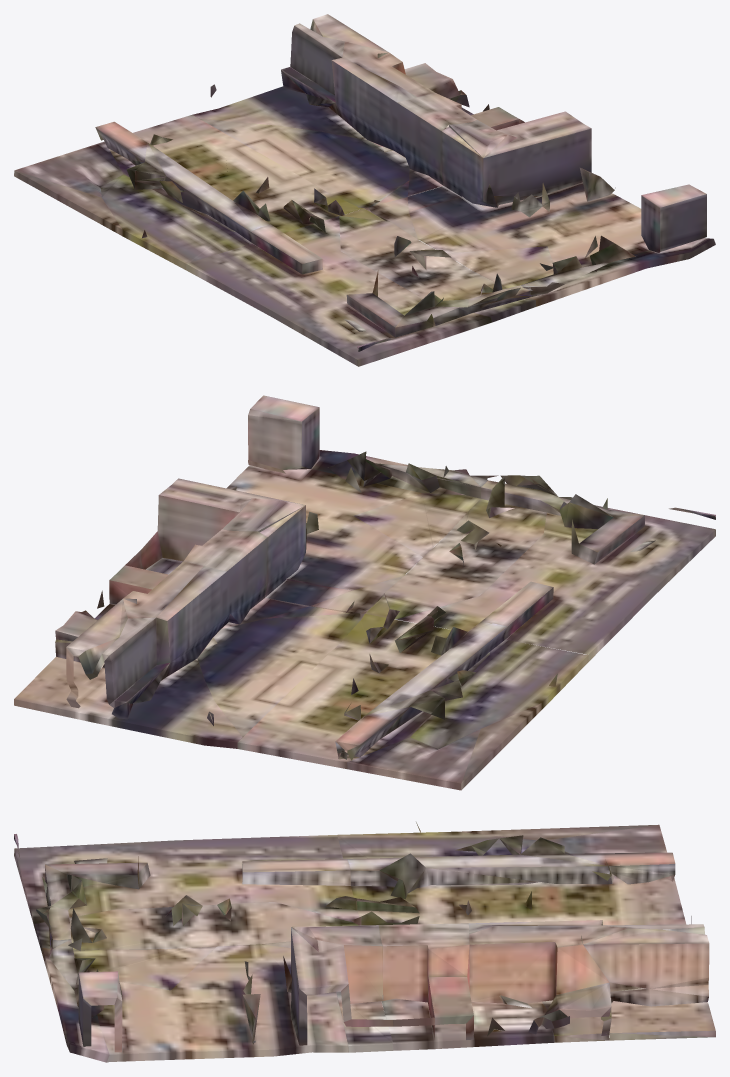
3 views of the same model, one above another, from view 1: azimuth 30°, elevation 25°; view 2: azimuth 150°, elevation 25°; view 3: azimuth 270°, elevation 25° (orthographic). The views are drawn at different scales.
Visible parts, largest first — view 1: Mesh_0; view 2: Mesh_0; view 3: Mesh_0.
Boxes of the visible parts, bbox=[...] form: Mesh_0: bbox=[14, 14, 715, 366]; Mesh_0: bbox=[14, 395, 715, 790]; Mesh_0: bbox=[14, 822, 715, 1062].
Bounding box in the file's own units: 267 × 42.09 × 330.
1 material, 1 textured.
